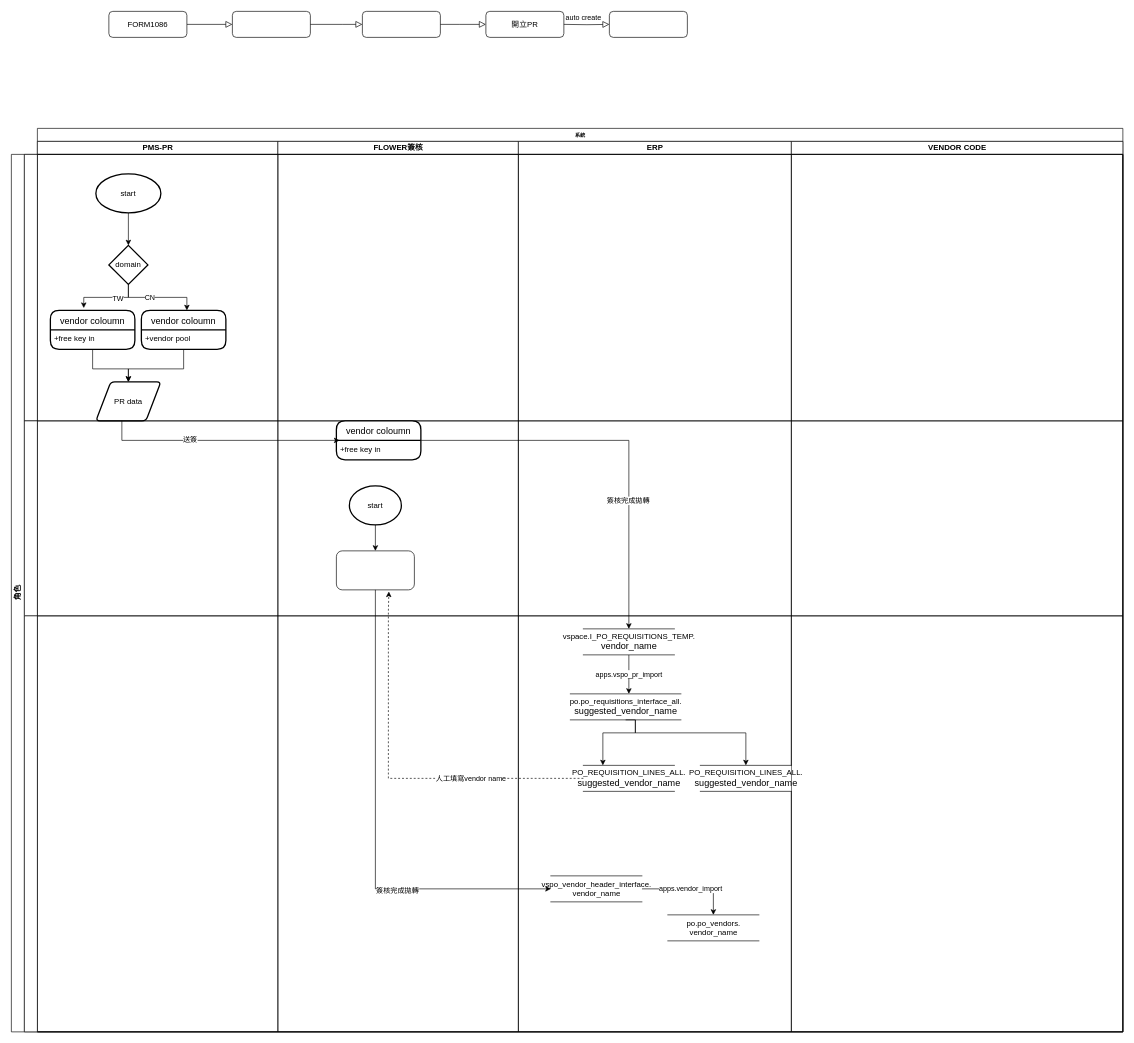
Image size: 1134x1043. Some labels were removed from this diagram. Here are the shapes that lost their labels. From the top down, the box of each, then its label:
(232, 11, 310, 37): FORM180
(362, 11, 440, 37): FORM106
(609, 11, 687, 37): 開立PO
(24, 154, 1123, 421): 申請人
(24, 420, 1123, 616): BUYER
(336, 550, 414, 590): 指定vendor code 申請
(24, 615, 1123, 1032): SYSTEM
